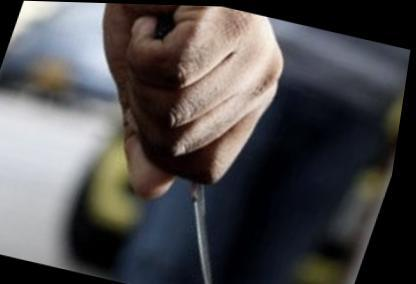knife: (94, 55, 297, 281)
